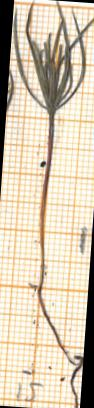flower: (13, 2, 81, 114)
root: (71, 355, 82, 407)
stem: (37, 117, 74, 364)
